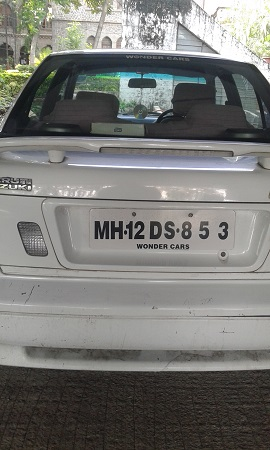licenseplate: (90, 207, 236, 255)
